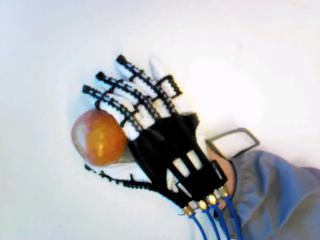apple: (72, 108, 126, 165)
hand: (80, 53, 229, 218)
